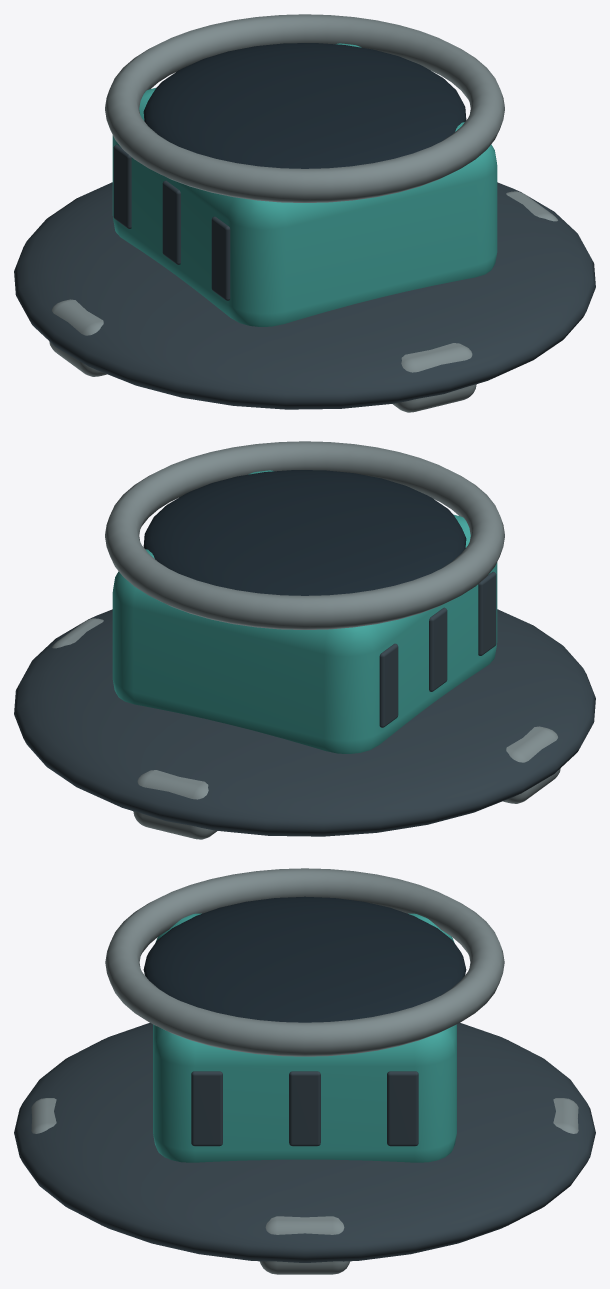
Rendered from power_station.glb.
3 views of the same model, one above another, from view 1: azimuth 30°, elevation 25°; view 2: azimuth 150°, elevation 25°; view 3: azimuth 270°, elevation 25° (orthographic).
Visible parts, largest first — view 1: weighted_base, capacitor_pedestal, charging_bowl, top_lip, foot.001, vent.002, foot.002, vent.001, vent, foot; view 2: weighted_base, capacitor_pedestal, charging_bowl, top_lip, foot.003, vent, foot.002, vent.001, vent.002, foot; view 3: weighted_base, charging_bowl, capacitor_pedestal, top_lip, foot, vent.003, vent.005, vent.004, foot.001, foot.003.
Boxes of the visible parts, <box> form: weighted_base: <box>14,182,595,409</box>; capacitor_pedestal: <box>112,43,497,326</box>; charging_bowl: <box>143,43,466,168</box>; top_lip: <box>105,14,504,202</box>; foot.001: <box>393,343,476,412</box>; vent.002: <box>211,216,230,300</box>; foot.002: <box>49,299,106,376</box>; vent.001: <box>162,180,180,264</box>; vent: <box>113,144,131,228</box>; foot: <box>506,191,557,221</box>; weighted_base: <box>14,609,595,836</box>; capacitor_pedestal: <box>112,470,497,753</box>; charging_bowl: <box>143,470,466,595</box>; top_lip: <box>105,441,504,629</box>; foot.003: <box>133,770,216,839</box>; vent: <box>379,643,398,727</box>; foot.002: <box>503,726,560,803</box>; vent.001: <box>429,607,447,691</box>; vent.002: <box>478,571,496,655</box>; foot: <box>52,618,103,648</box>; weighted_base: <box>14,1023,595,1262</box>; charging_bowl: <box>143,896,466,1022</box>; capacitor_pedestal: <box>153,913,456,1162</box>; top_lip: <box>105,868,504,1056</box>; foot: <box>259,1216,350,1274</box>; vent.003: <box>387,1071,418,1146</box>; vent.005: <box>191,1071,222,1146</box>; vent.004: <box>289,1071,320,1146</box>; foot.001: <box>31,1098,56,1133</box>; foot.003: <box>553,1098,578,1133</box>.
Size of the model in its own units: 2.2 by 0.97 by 2.2.
